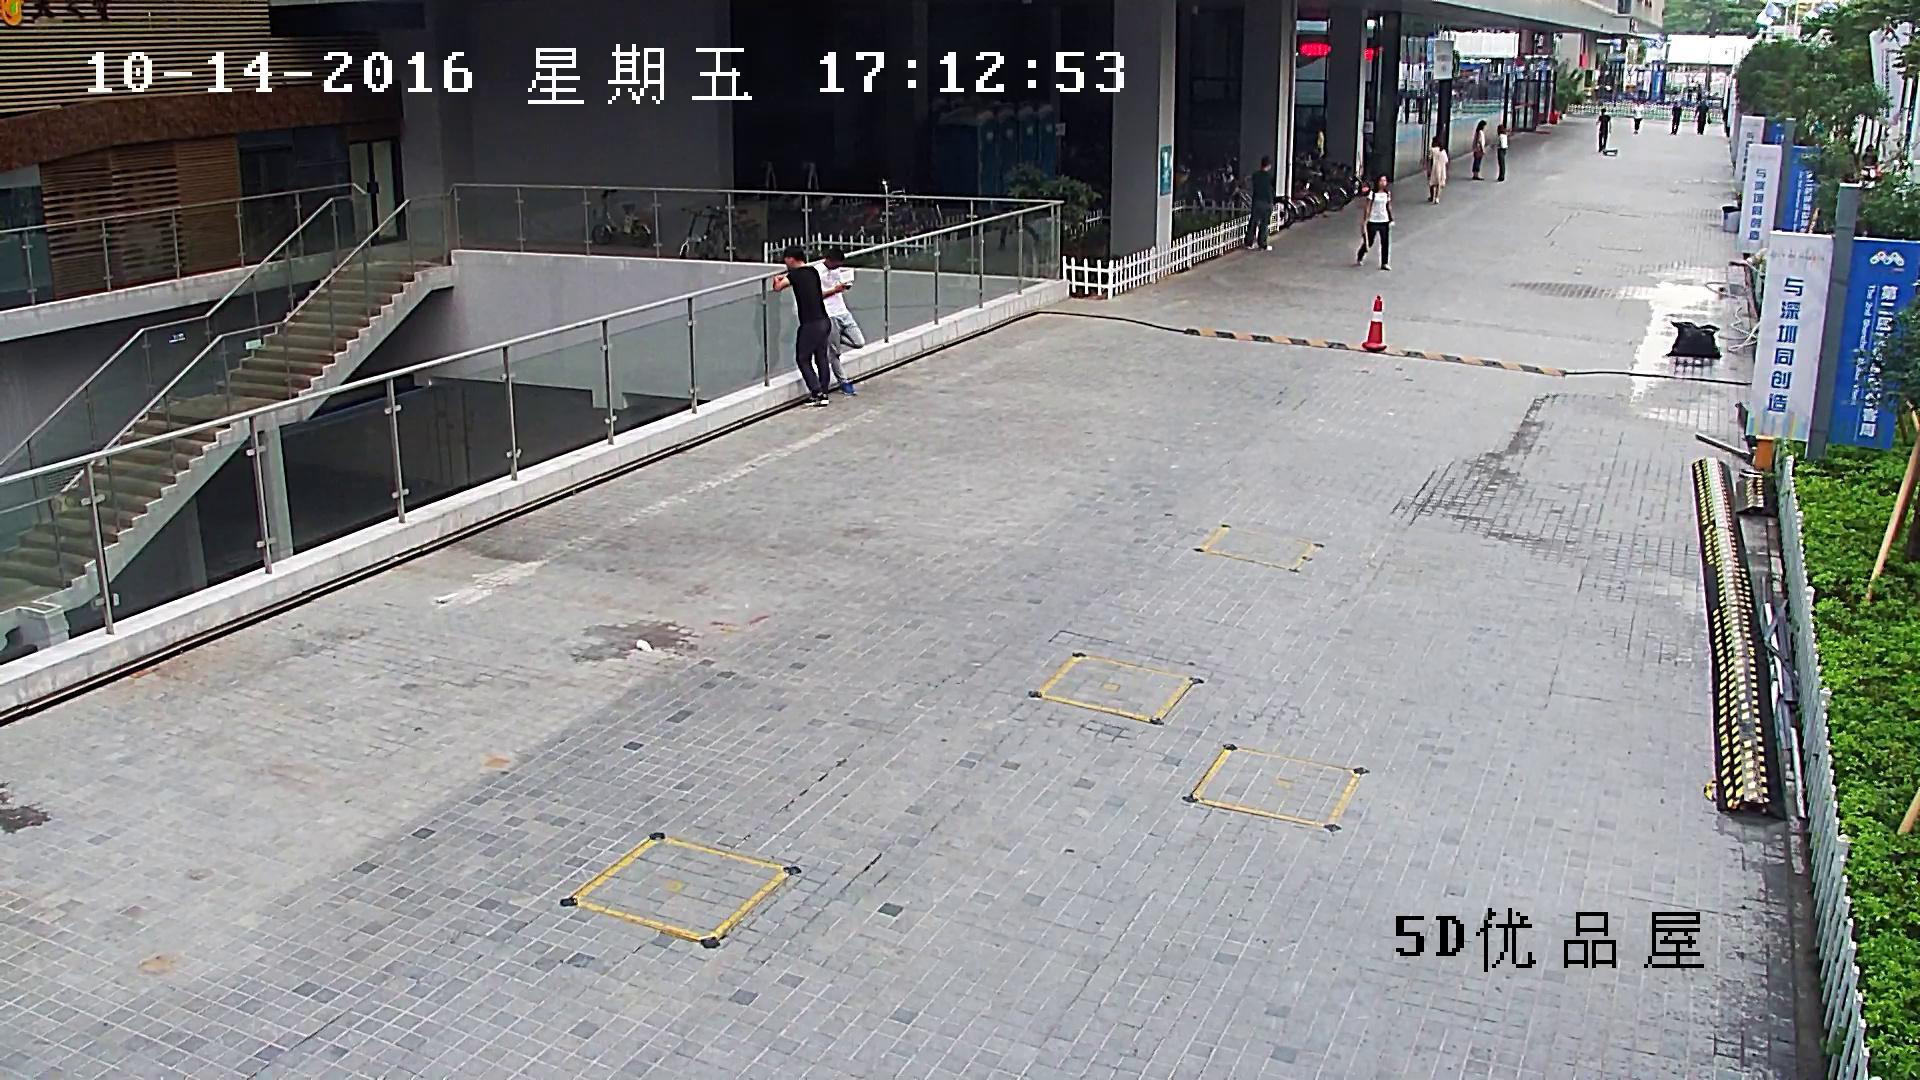person: (772, 245, 831, 405), (813, 246, 865, 396), (1357, 174, 1394, 270), (1244, 155, 1272, 251), (1426, 136, 1448, 204), (1471, 120, 1486, 180), (1692, 98, 1711, 135), (1595, 108, 1611, 152), (1497, 124, 1507, 180), (1670, 100, 1682, 135), (1632, 98, 1644, 134)
